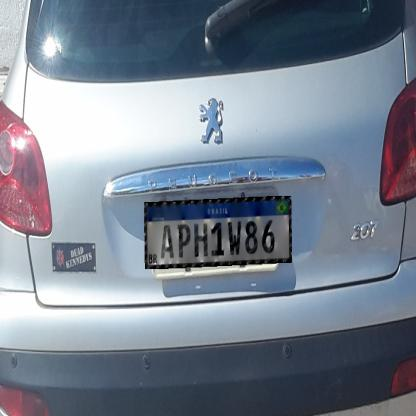PlacaM: (144, 196, 292, 269)
